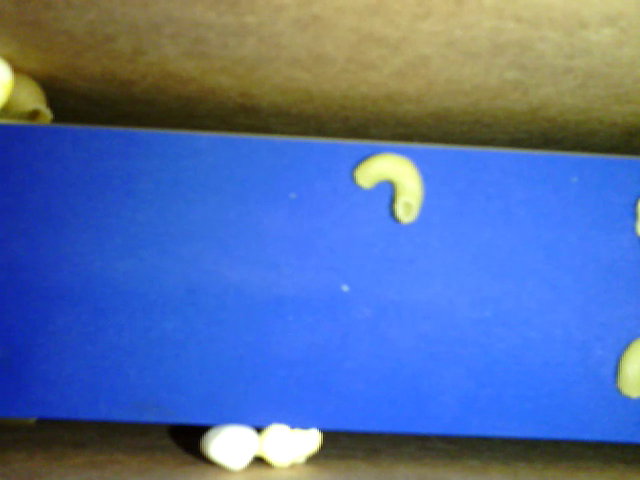elbow: (354, 151, 423, 223)
shell: (3, 69, 55, 127)
